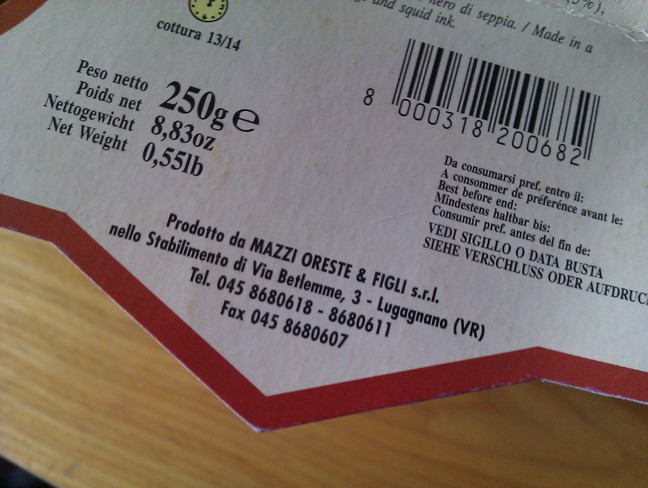barcode: (342, 32, 610, 171)
